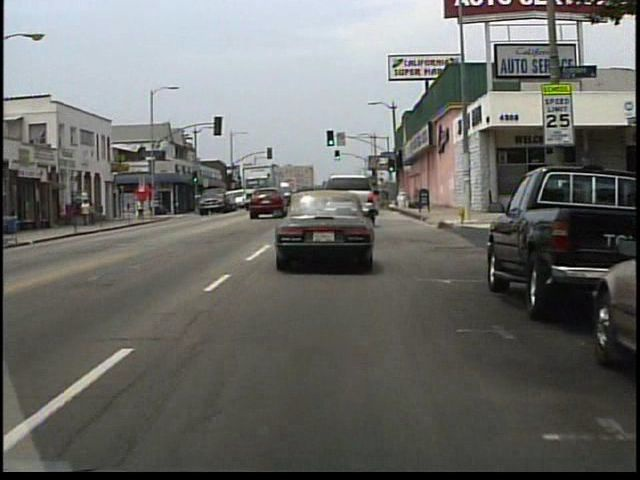person: (82, 198, 92, 226), (90, 200, 99, 225), (138, 198, 147, 219)
